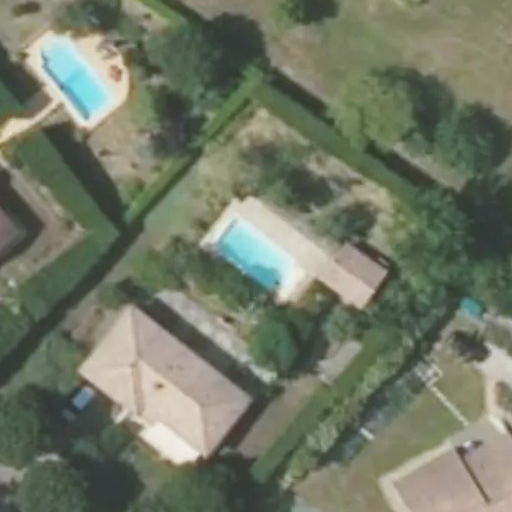pool: (215, 229, 295, 254)
